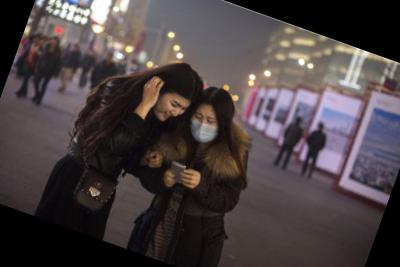with_mask: (184, 107, 225, 148)
without_mask: (150, 93, 191, 130)
